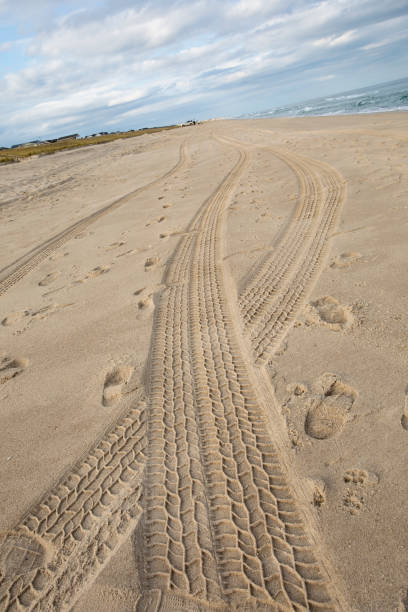vehicle_track: (0, 149, 335, 610), (137, 148, 335, 611), (0, 401, 145, 611), (0, 144, 185, 294), (239, 147, 344, 363), (247, 160, 344, 363)
